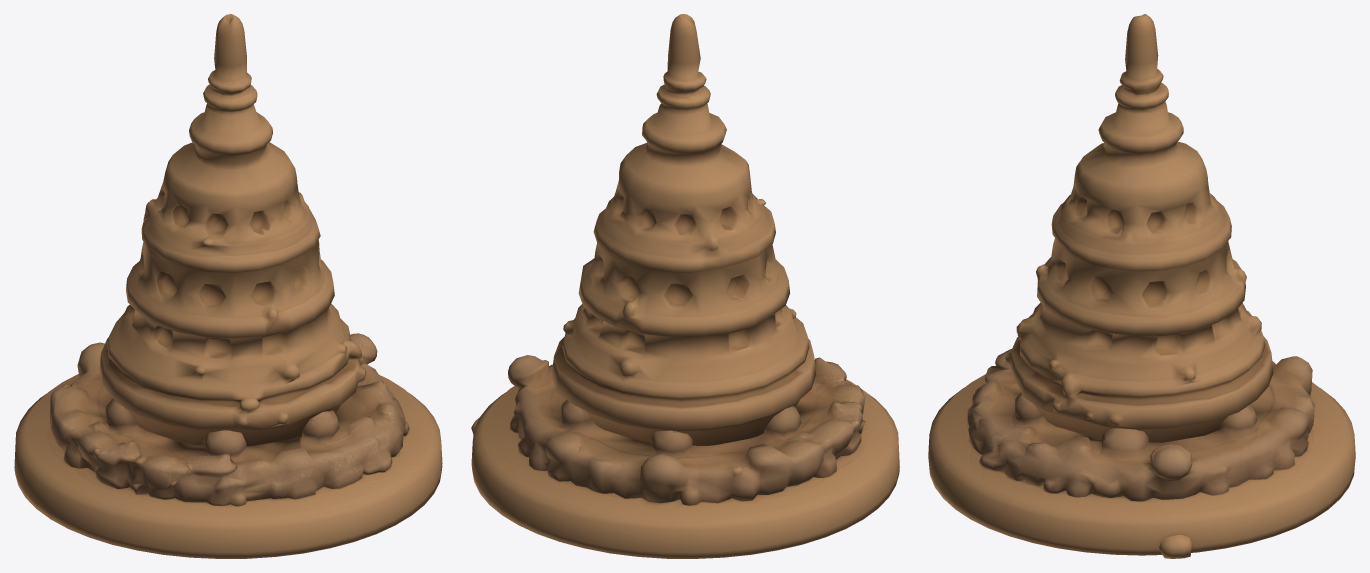
File: indo-envi-2.glb
The picture shows the model from 3 angles, left to right: view 1: azimuth 30°, elevation 25°; view 2: azimuth 150°, elevation 25°; view 3: azimuth 270°, elevation 25°; orthographic projection.
Parts seen in each view (by area): view 1: tripo_node_ec6e08a0-5707-4130-93c8-c6c5c0fe4cea; view 2: tripo_node_ec6e08a0-5707-4130-93c8-c6c5c0fe4cea; view 3: tripo_node_ec6e08a0-5707-4130-93c8-c6c5c0fe4cea.
Boxes of the visible parts, bbox=[...] form: tripo_node_ec6e08a0-5707-4130-93c8-c6c5c0fe4cea: bbox=[14, 14, 442, 558]; tripo_node_ec6e08a0-5707-4130-93c8-c6c5c0fe4cea: bbox=[471, 14, 899, 558]; tripo_node_ec6e08a0-5707-4130-93c8-c6c5c0fe4cea: bbox=[928, 14, 1355, 558].
Bounding box in the file's own units: 0.8784 × 0.9995 × 0.856.
1 material, 1 textured.
